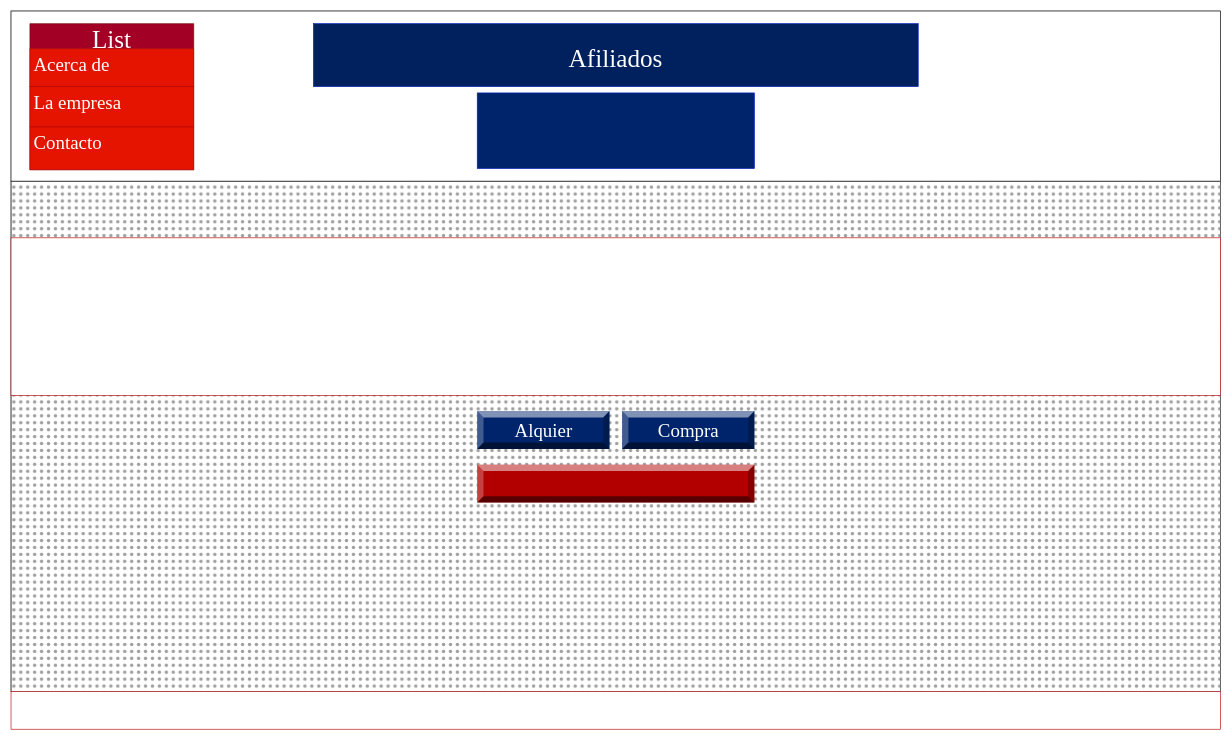
This 1232x740 diagram has some shape labels left out. The centre of each missing label's shape, as x and y in pixels:
"Footer" belongs at pixel 615 710.
"Foto" belongs at pixel 615 316.
"Logo" belongs at pixel 615 130.
"Venta" belongs at pixel 615 483.
